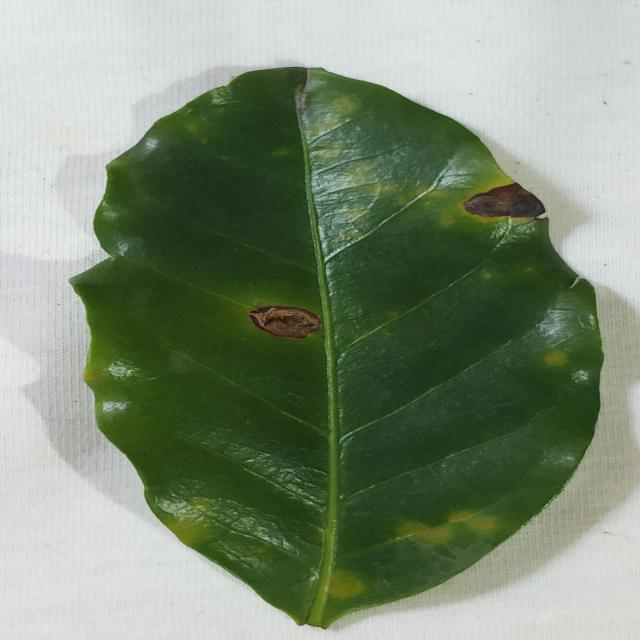Enfermedad-Roya: (69, 67, 605, 632)
